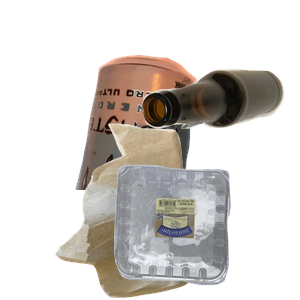glass: (140, 67, 300, 188)
metal: (73, 52, 263, 232)
plastic: (112, 162, 300, 300)
trash: (53, 121, 239, 300)
